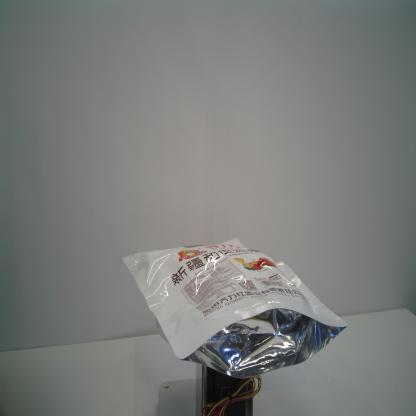Dried Food: (121, 237, 347, 380)
